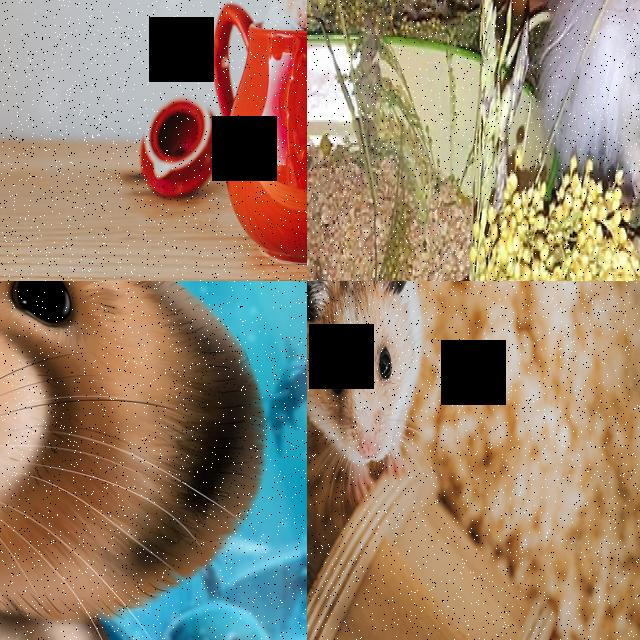hamster: (0, 281, 271, 619), (307, 281, 426, 488), (540, 0, 640, 174)
